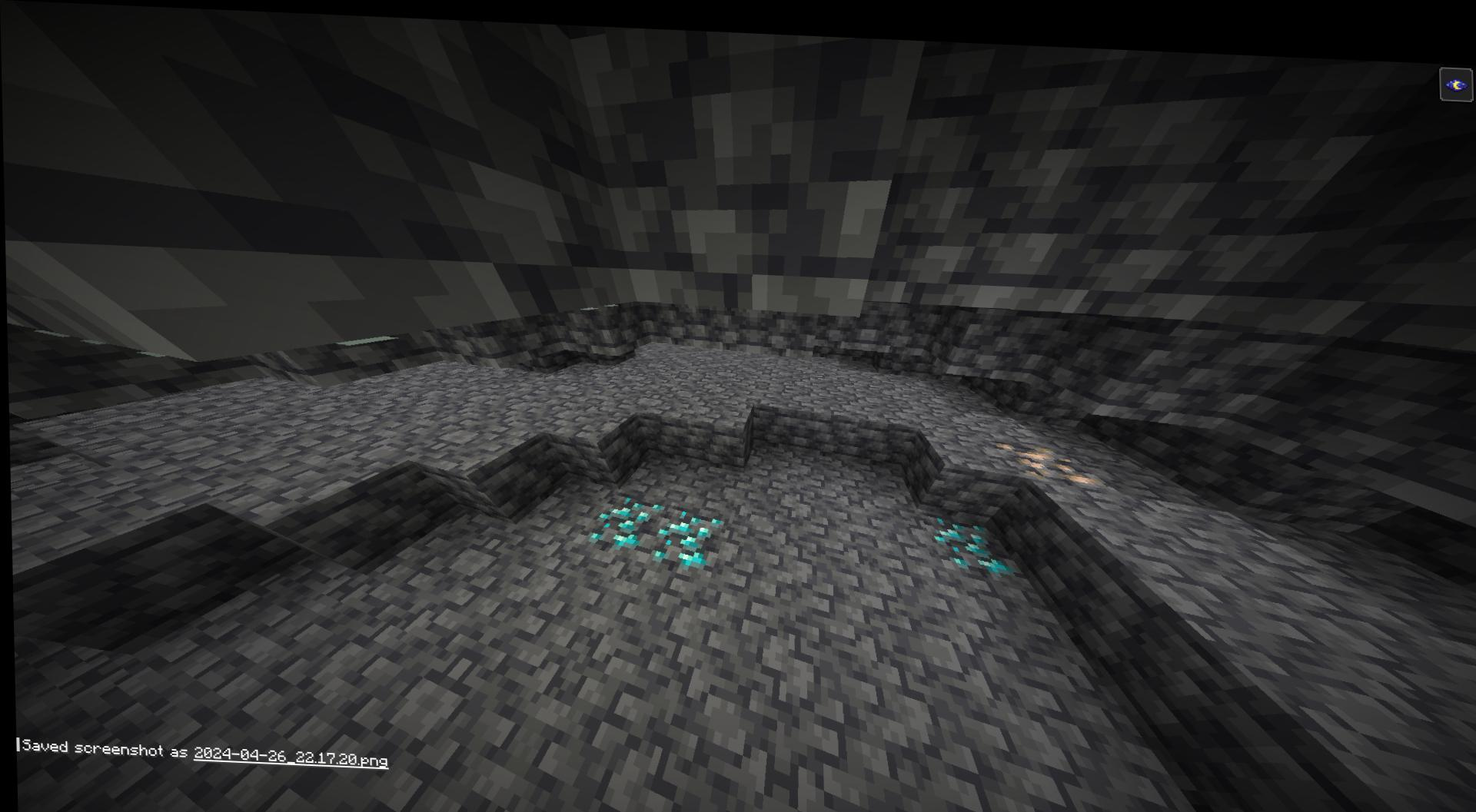diamond ore: (649, 496, 723, 568), (928, 507, 1007, 569), (585, 484, 658, 543)
iron ore: (994, 428, 1094, 477)
